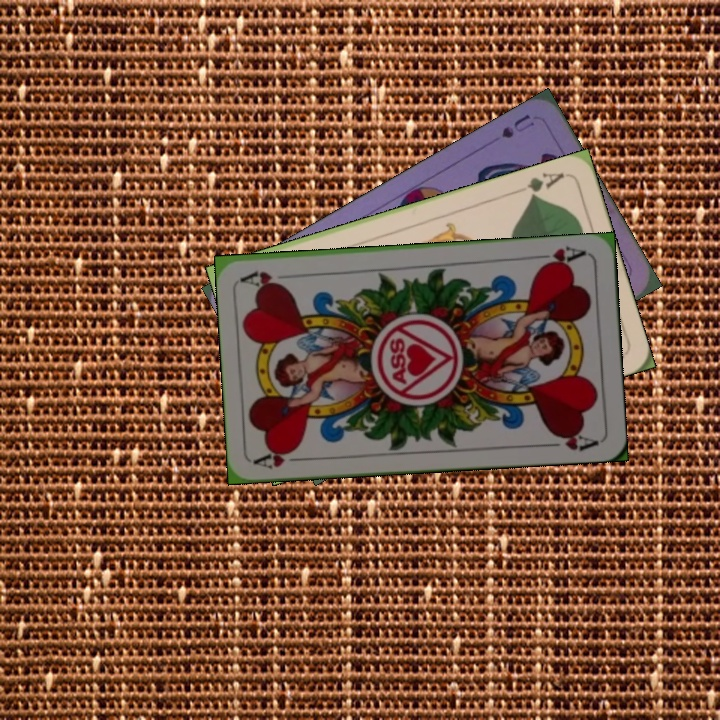GA: (523, 168, 567, 202)
HA: (530, 242, 589, 271), (252, 444, 311, 472)
SU: (497, 110, 538, 141)
